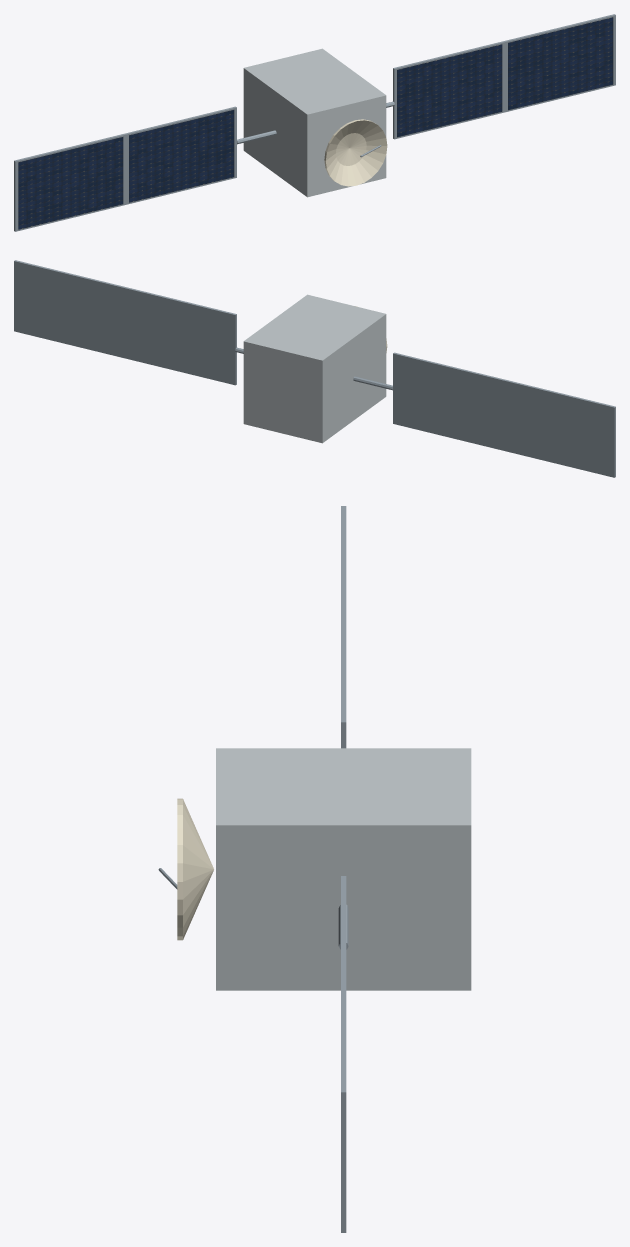
The model's file is ref-umbra-48906.glb.
The picture shows the model from 3 angles, top to bottom: view 1: azimuth 30°, elevation 25°; view 2: azimuth 150°, elevation 25°; view 3: azimuth 270°, elevation 25°; orthographic projection. The views are drawn at different scales.
Visible parts, largest first — view 1: Photovoltaic laminates (×4), Spacecraft body, Array frame (×4), Reflector dish; view 2: Array frame (×4), Spacecraft body; view 3: Spacecraft body, Reflector dish, Array frame.
Part boxes in pixels (<box>): Photovoltaic laminates (×4): <box>18,17,613,229</box>; Spacecraft body: <box>243,48,386,197</box>; Array frame (×4): <box>14,14,615,231</box>; Reflector dish: <box>324,119,387,186</box>; Array frame (×4): <box>14,260,615,477</box>; Spacecraft body: <box>243,294,386,443</box>; Spacecraft body: <box>216,748,471,990</box>; Reflector dish: <box>177,798,213,940</box>; Array frame: <box>341,984,346,1232</box>.
Bounding box in the file's own units: 3.8 × 0.5 × 0.8573.
Materials: 4 (1 with a texture image).
